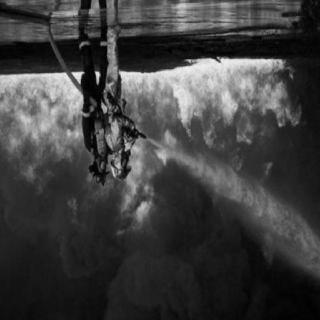Fire: (1, 52, 303, 238)
Smoke: (10, 175, 311, 311)
